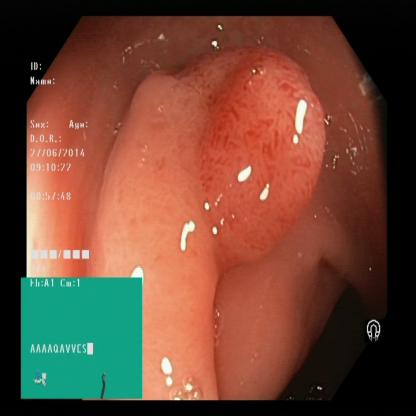Labels: (25, 60, 108, 277), (22, 278, 144, 398), (358, 320, 390, 349)
Polyps: (199, 40, 340, 269)
